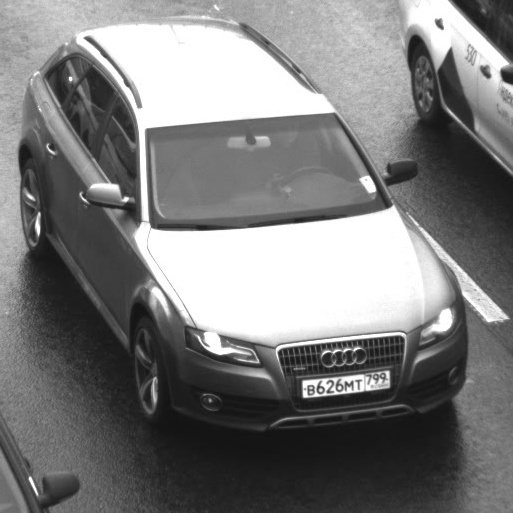plate: (286, 357, 401, 405)
